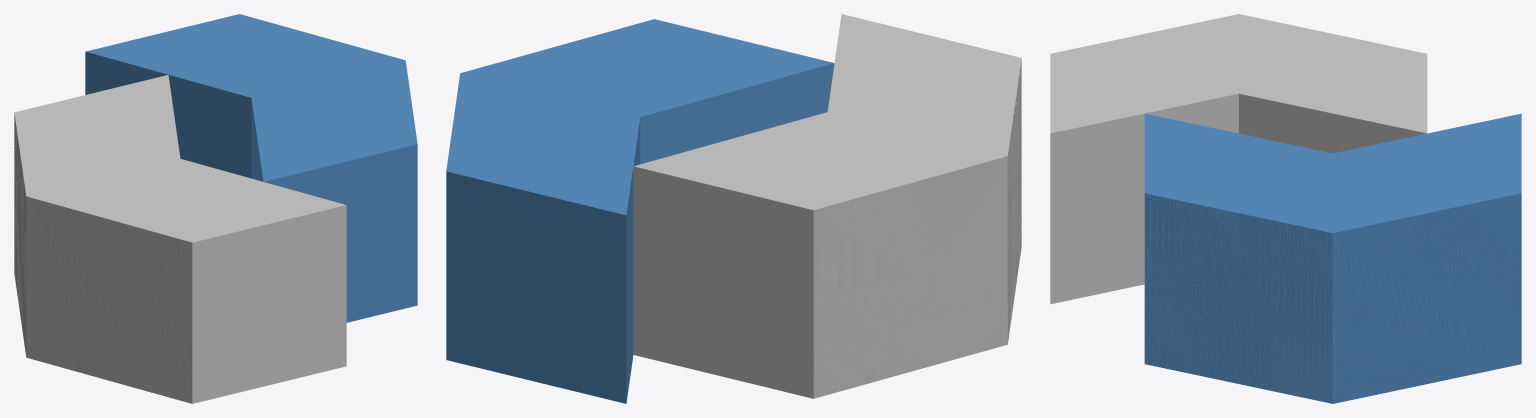
The model's file is reindent-final.glb.
3 views of the same model, side by side, from view 1: azimuth 30°, elevation 25°; view 2: azimuth 150°, elevation 25°; view 3: azimuth 270°, elevation 25° (orthographic). The views are drawn at different scales.
Parts seen in each view (by area): view 1: LeftBracket, RightBracket; view 2: LeftBracket, RightBracket; view 3: RightBracket, LeftBracket.
Part boxes in pixels (<box>): LeftBracket: <box>14,75,346,403</box>; RightBracket: <box>85,14,417,322</box>; LeftBracket: <box>633,14,1021,398</box>; RightBracket: <box>446,19,834,403</box>; RightBracket: <box>1144,113,1521,403</box>; LeftBracket: <box>1050,14,1427,304</box>.
Bounding box in the file's own units: 5.5 × 2 × 5.
